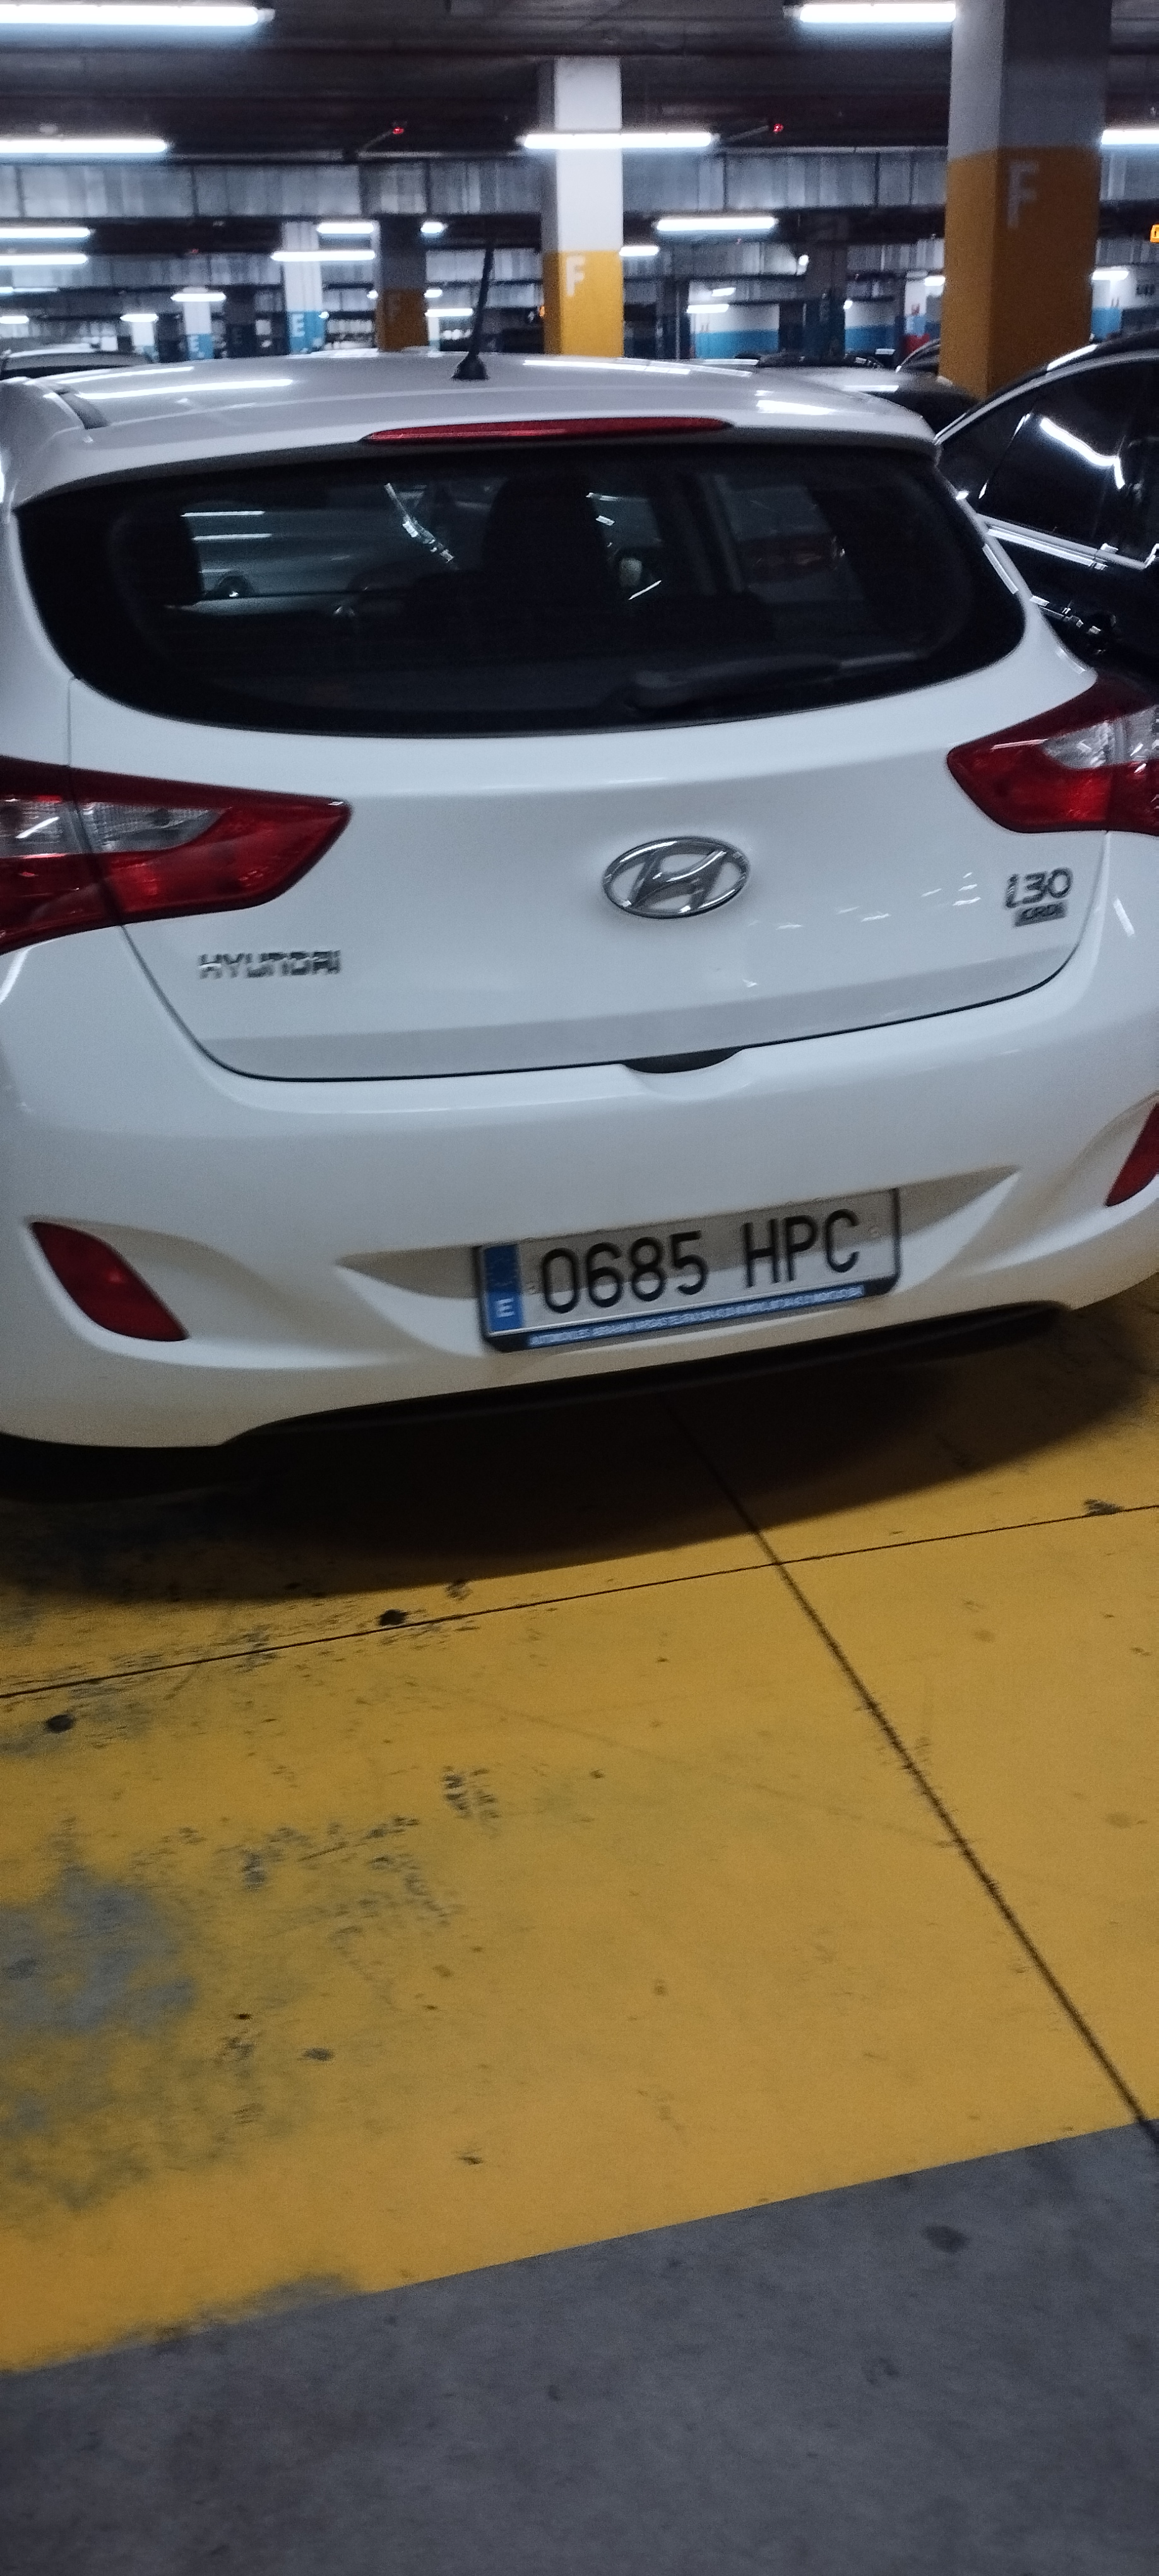Car: (0, 352, 1159, 1448)
Plate: (465, 1252, 905, 1353)
